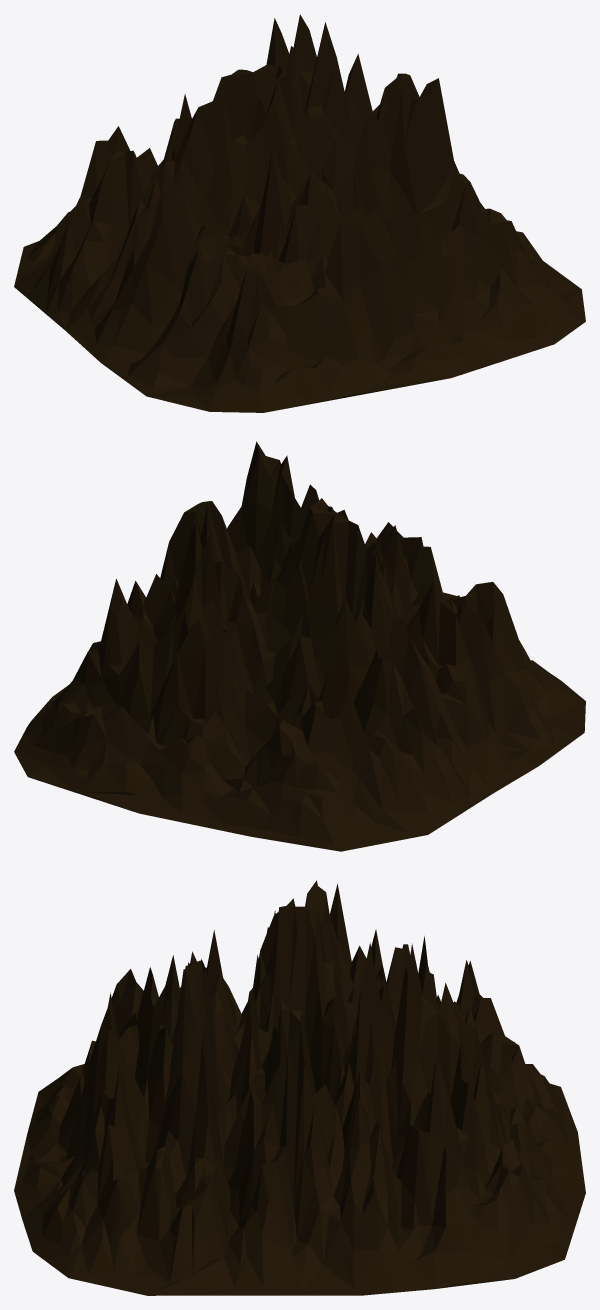
Rendered from Mountain_2.fbx.
3 views of the same model, one above another, from view 1: azimuth 30°, elevation 25°; view 2: azimuth 150°, elevation 25°; view 3: azimuth 270°, elevation 25° (orthographic). The views are drawn at different scales.
Visible parts, largest first — view 1: Mountain_2; view 2: Mountain_2; view 3: Mountain_2.
Boxes of the visible parts, x1,y1,x2,y2 form: Mountain_2: [14, 14, 585, 412]; Mountain_2: [14, 441, 585, 851]; Mountain_2: [14, 880, 585, 1295].
Size of the model in its own units: 4116 by 2118 by 4116.
